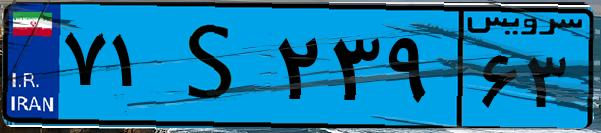1: (110, 28, 158, 98)
2: (270, 28, 330, 110)
3: (330, 28, 385, 110), (525, 38, 570, 115)
6: (475, 38, 525, 113)
7: (57, 26, 110, 100)
9: (385, 28, 445, 110)
S: (158, 12, 270, 120)
